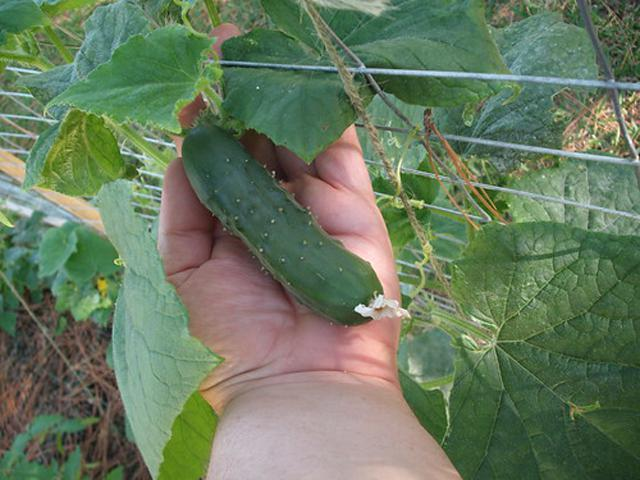cucumber: (183, 124, 412, 325)
